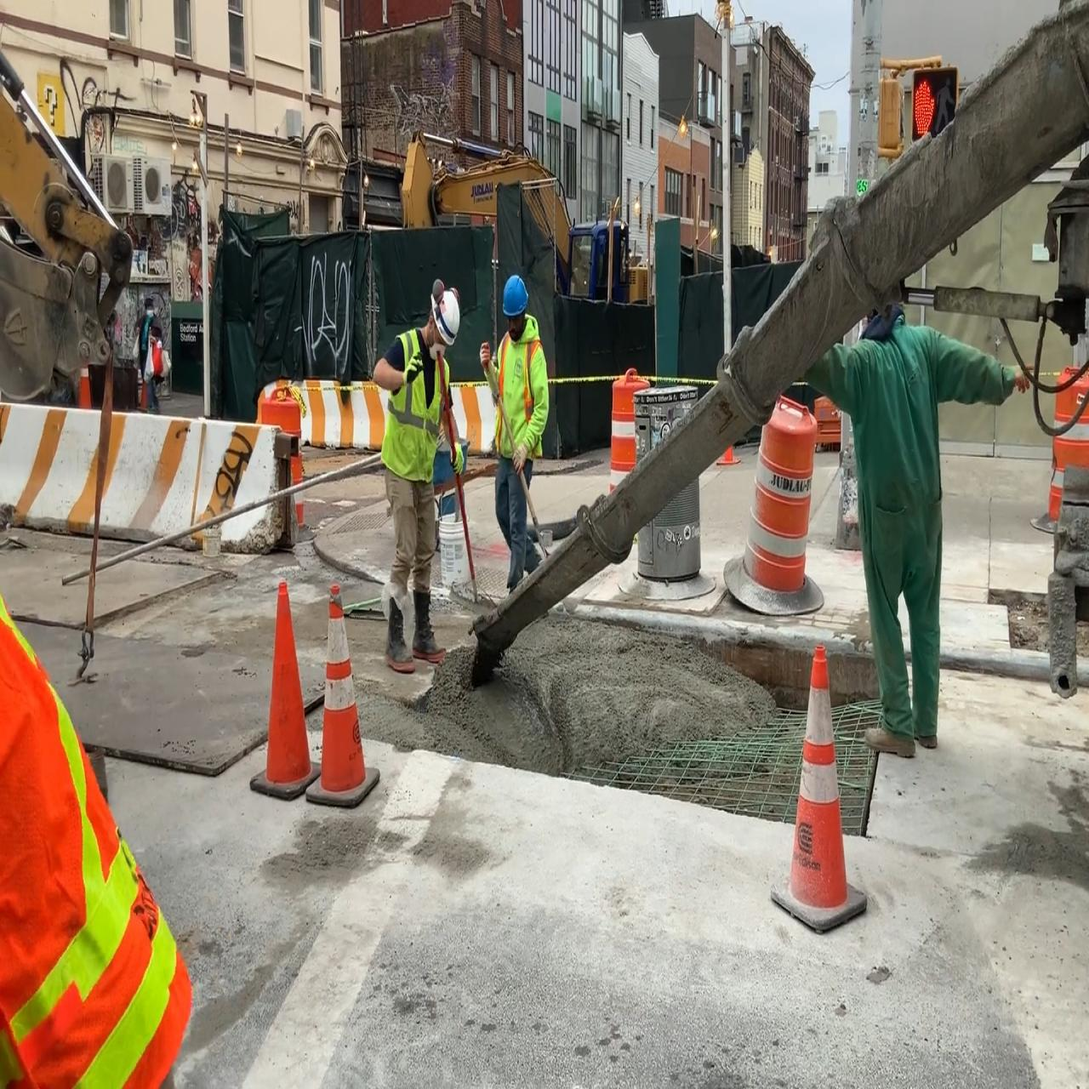NO_Safety_Vest: (852, 323, 944, 524), (141, 316, 159, 363)
Person: (808, 259, 1036, 756), (373, 285, 466, 677), (480, 279, 550, 603), (131, 285, 170, 418)
Safety_Vest: (0, 577, 202, 1087), (381, 332, 450, 487), (495, 326, 543, 460)
